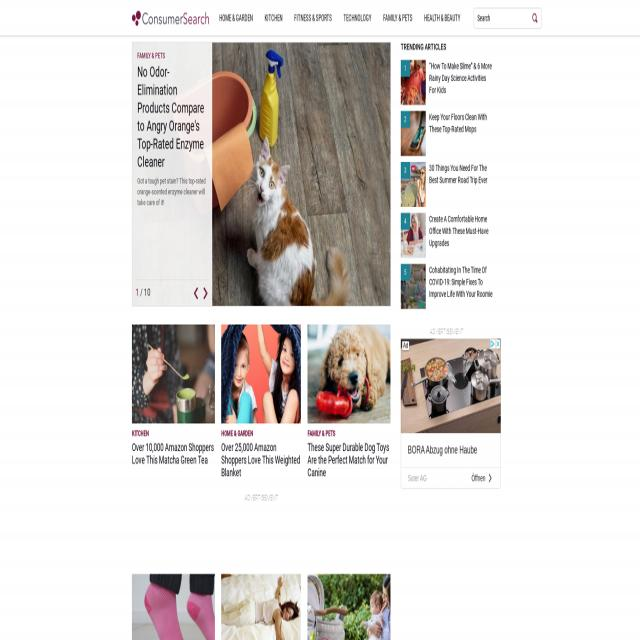button: (132, 42, 390, 306), (401, 340, 501, 490), (132, 324, 215, 424), (308, 324, 390, 424), (221, 324, 301, 424), (306, 575, 391, 640), (133, 573, 215, 640), (221, 573, 301, 640), (132, 10, 209, 26), (400, 111, 426, 156), (400, 162, 426, 207), (400, 213, 426, 258), (400, 60, 426, 105), (400, 264, 426, 308), (532, 13, 538, 23), (194, 287, 198, 299), (204, 287, 208, 299)
field: (474, 8, 542, 28)
